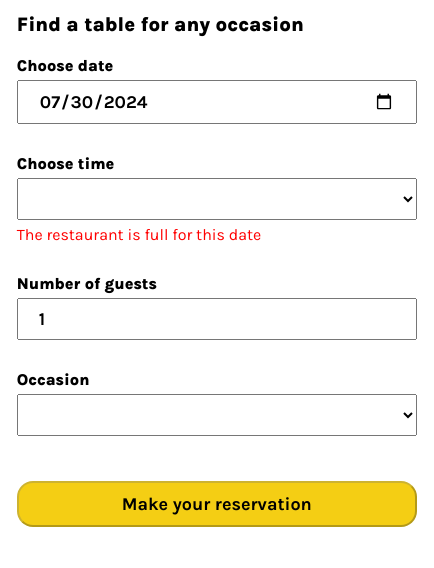
Test case: Validation incorrect for BookingForm - more than 10 guests selected
The width and height of the screenshot is (434, 568).
Type "11" into the number field with id "guests" at (217, 319), box [17,298,417,340]
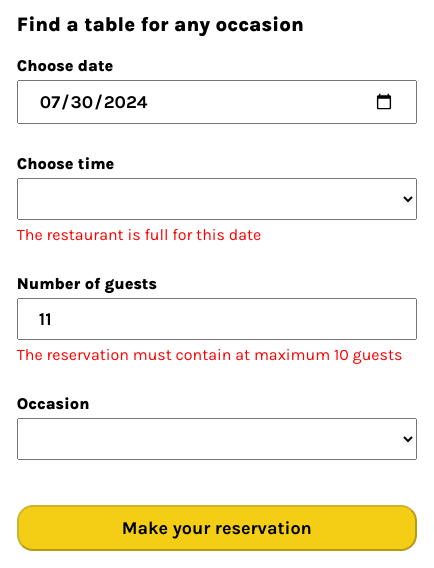
Expected: the button with id "submit-button" is disabled, [17,505,417,551]
Now the text "The reservation must contain at maximum 10 guests" is shown, box [17,345,417,364]
